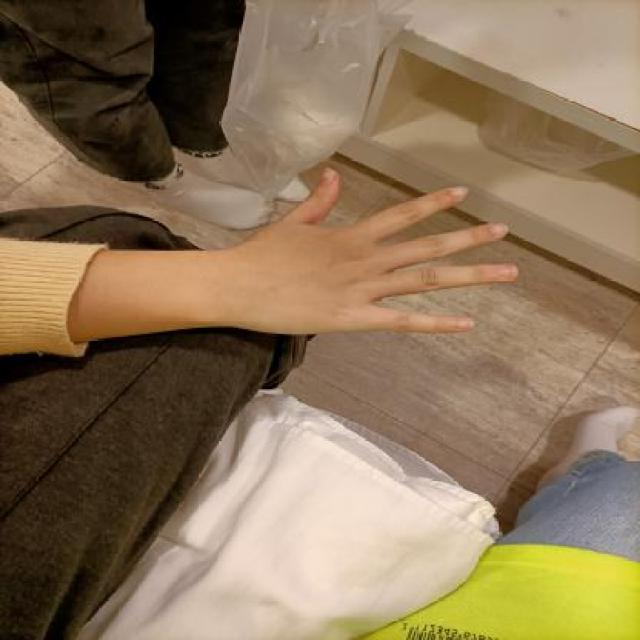bare_hand: (172, 154, 537, 357)
